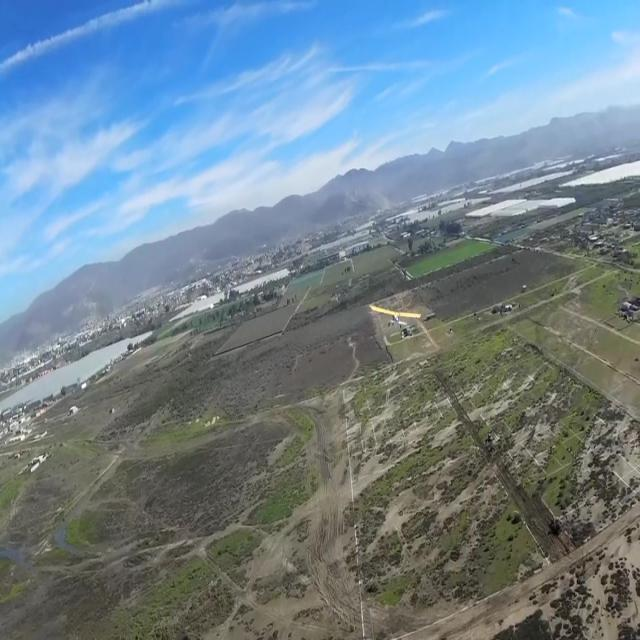iha: (363, 303, 416, 330)
